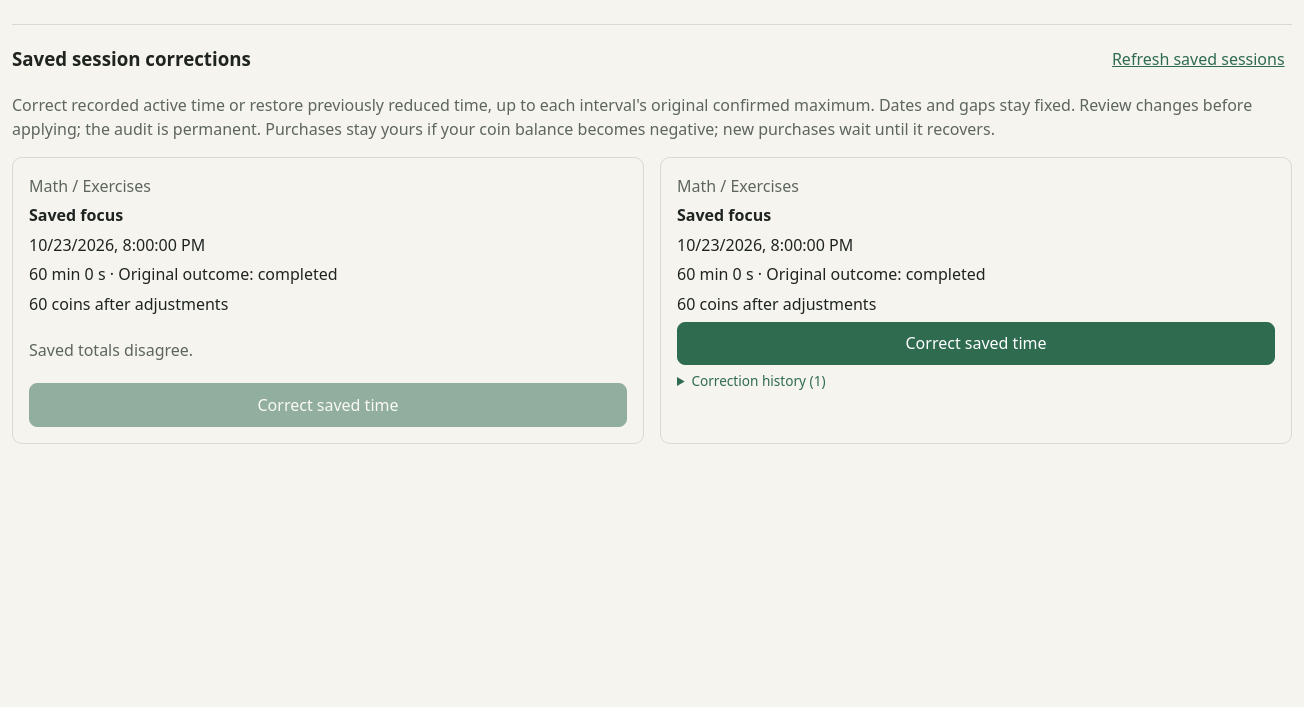
Test: ineligible records explain restrictions and history prepares a reviewed reversal
Check: the button "Correct saved time" below "Saved totals disagree." is disabled, box [29,383,627,427]
Click the heading "Correction history (1)": (758, 380) [691,371,826,390]
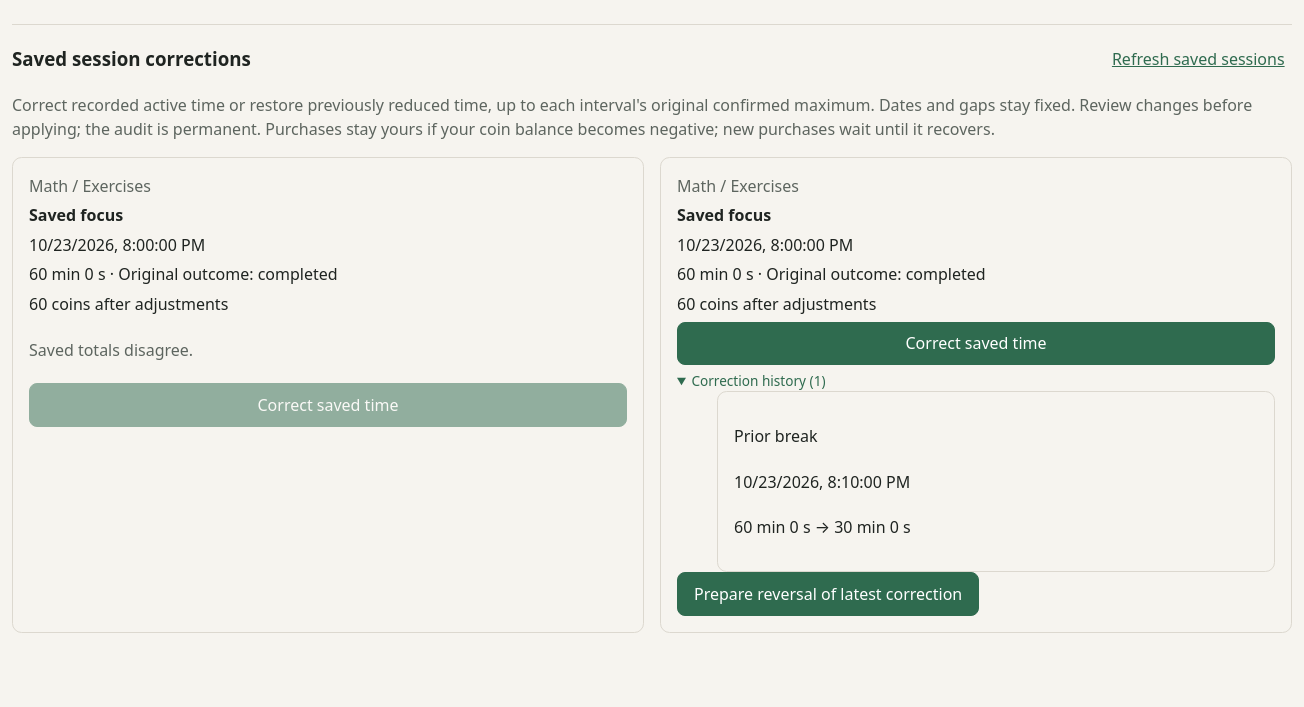
Click the button "Prepare reversal of latest correction": (828, 594) [677,572,979,616]
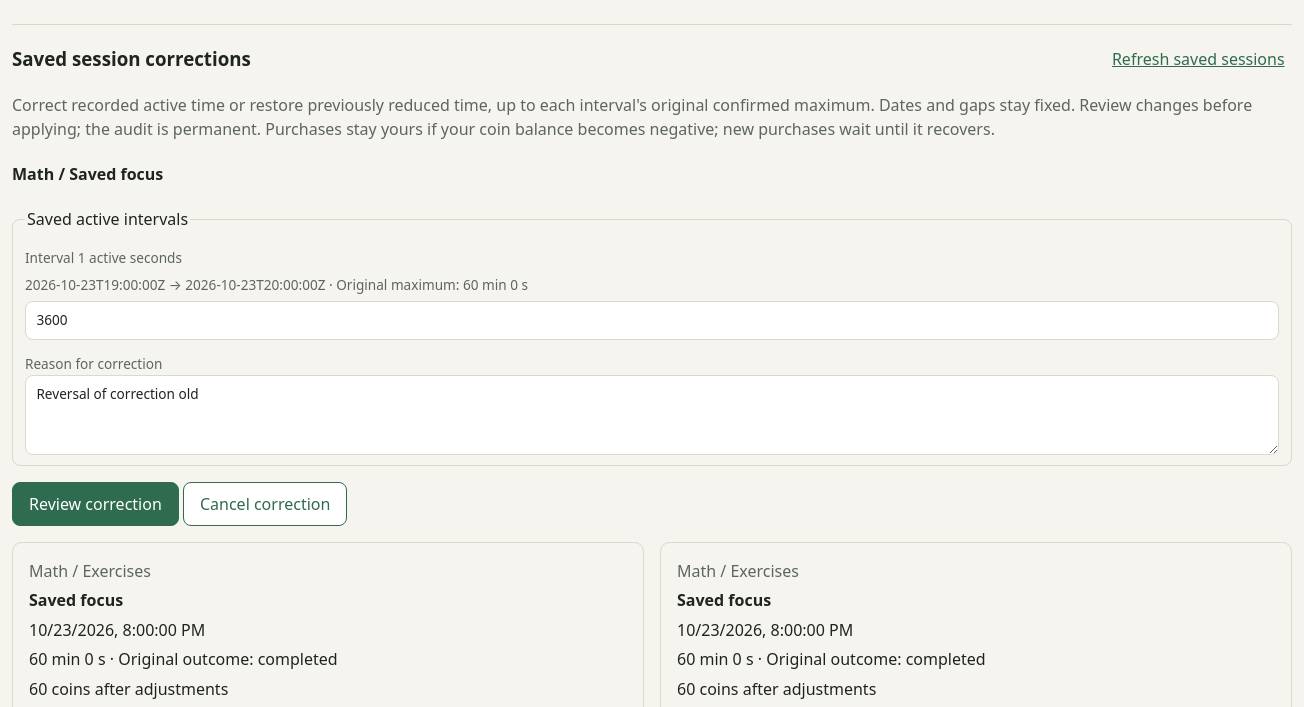
Check: the field labelled "Interval 1 active seconds" holds "3600", box [25,302,1279,340]
Check: the text box labelled "Reason for correction" holds "Reversal of correction old", box [25,375,1279,455]
Check: the button "Review correction" is shown, box [12,482,179,526]
